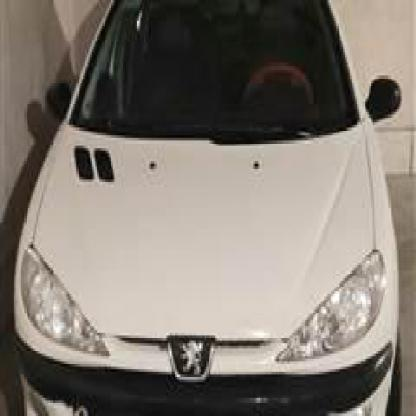car: (27, 0, 408, 414)
